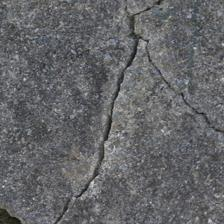Crack: (0, 27, 168, 151), (14, 77, 124, 143)
